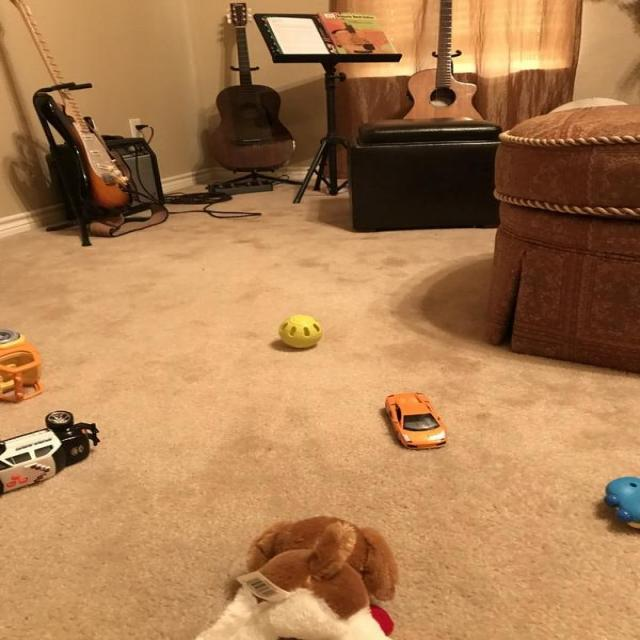toy: (199, 508, 395, 640), (0, 409, 112, 500), (380, 391, 448, 449), (0, 330, 52, 402), (594, 472, 640, 552), (274, 312, 325, 349)
